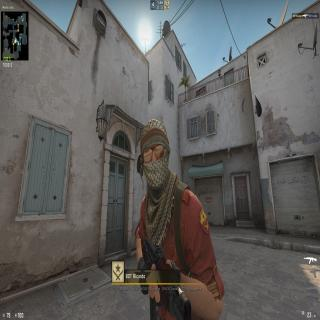T-Head: (134, 116, 172, 198)
